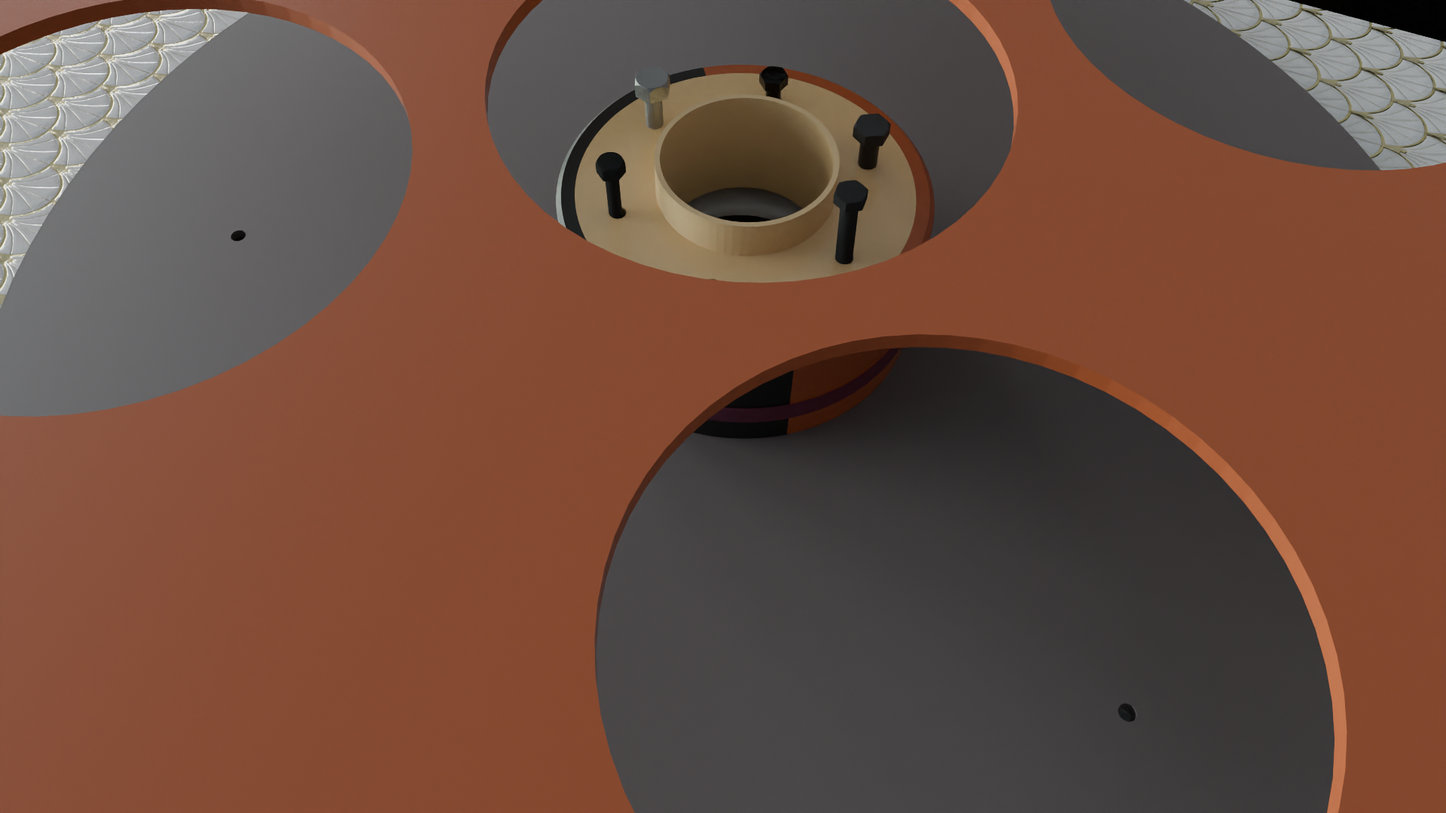bolt: (635, 66, 670, 93), (854, 114, 891, 137), (834, 180, 868, 204), (596, 152, 625, 172), (759, 66, 789, 84)
